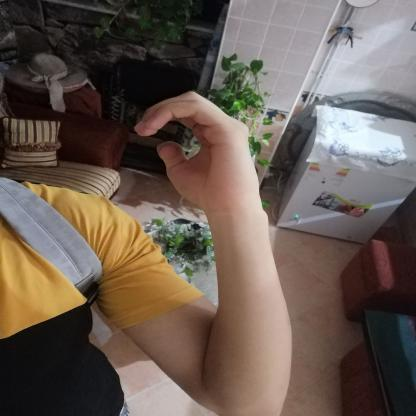JEEM: (118, 82, 280, 215)
